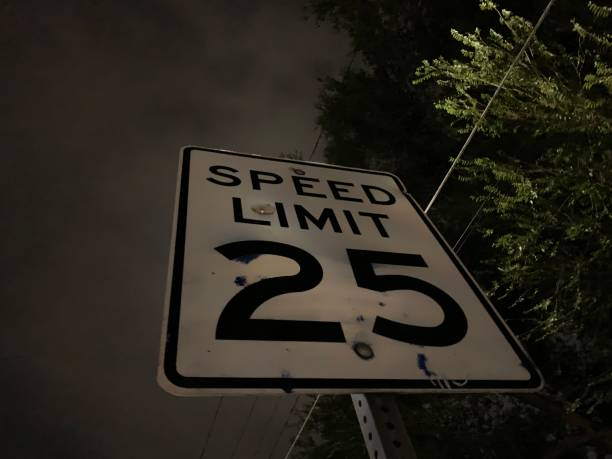SpeedLimitSign: (154, 145, 543, 393)
